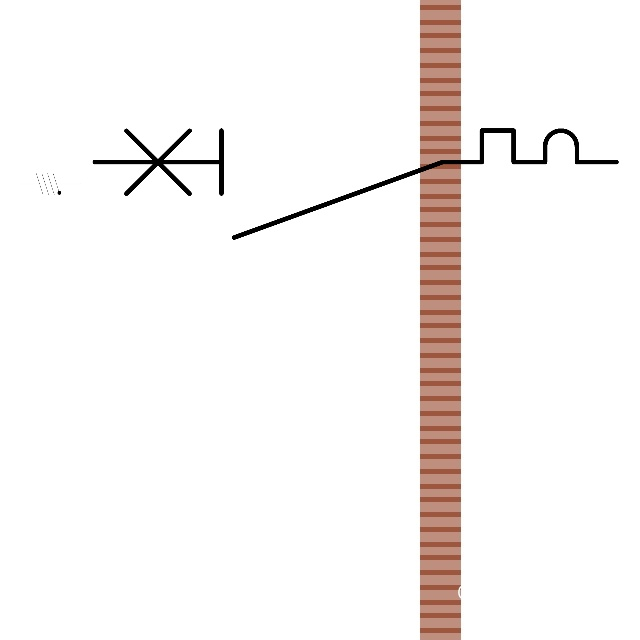interruptor_termomagnetico: (81, 117, 630, 251)
